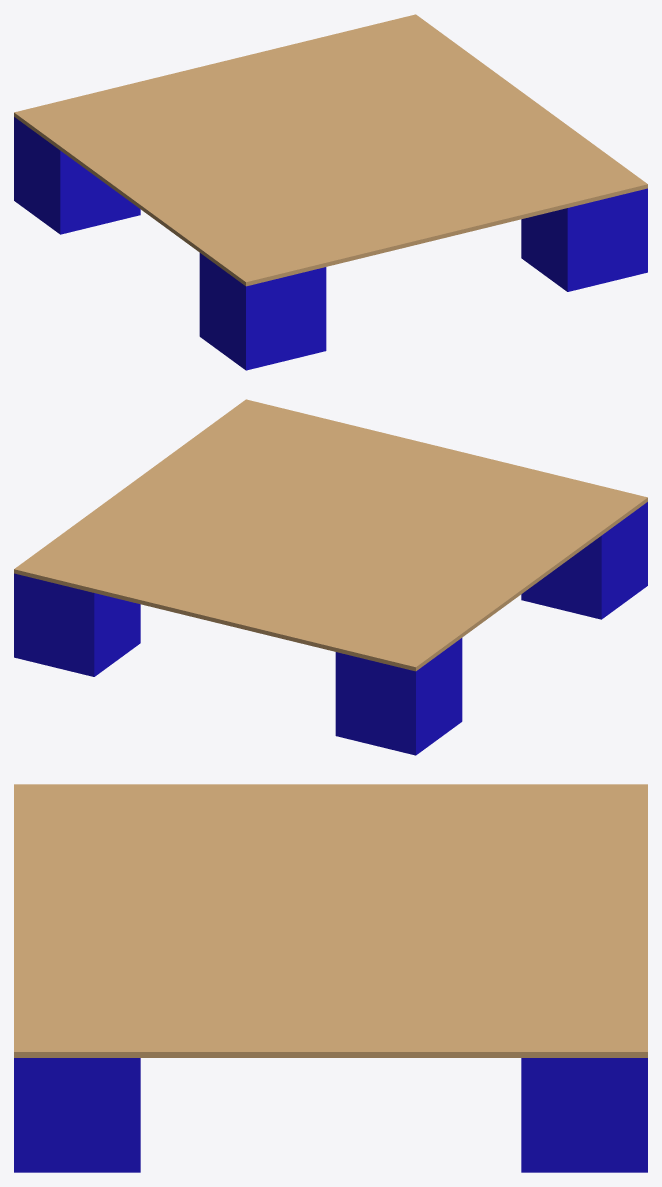
The picture shows the model from 3 angles, top to bottom: view 1: azimuth 30°, elevation 25°; view 2: azimuth 150°, elevation 25°; view 3: azimuth 270°, elevation 25°; orthographic projection. The views are drawn at different scales.
Visible parts, largest first — view 1: Cube, Cube.004, Cube.003, Cube.002; view 2: Cube, Cube.002, Cube.001, Cube.004; view 3: Cube, Cube.003, Cube.001.
Part boxes in pixels (x1,y1,x2,y2): Cube: [14, 14, 647, 286]; Cube.004: [199, 253, 326, 370]; Cube.003: [521, 188, 647, 291]; Cube.002: [14, 117, 140, 234]; Cube: [14, 399, 647, 671]; Cube.002: [335, 638, 462, 755]; Cube.001: [14, 573, 140, 676]; Cube.004: [521, 502, 647, 619]; Cube: [14, 784, 647, 1057]; Cube.003: [14, 1058, 140, 1172]; Cube.001: [521, 1058, 647, 1172].
Size of the model in its own units: 2 by 2 by 0.42.
